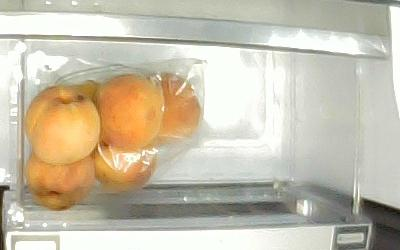peach: (23, 83, 100, 164), (90, 71, 165, 148), (25, 149, 95, 211)
peach_vinyl: (144, 71, 201, 138), (92, 139, 158, 188)
